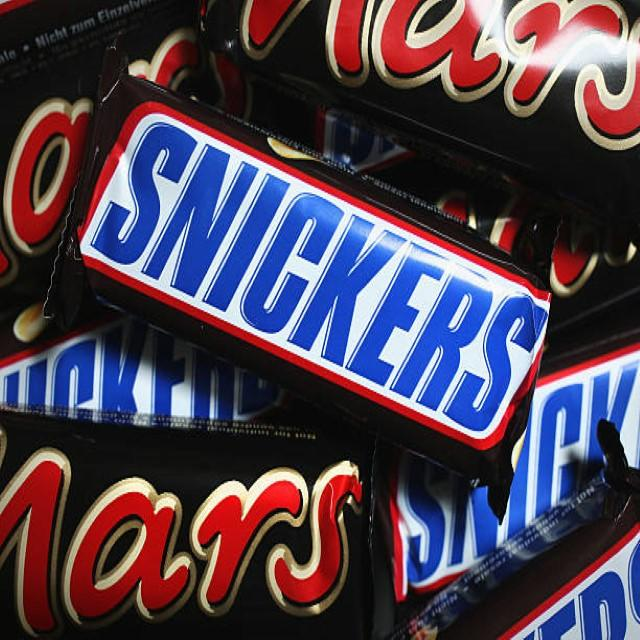mars_chocolate: (0, 463, 371, 640), (300, 8, 640, 188)
snickers_chocolate: (90, 94, 527, 444), (391, 311, 640, 598), (16, 324, 322, 428)
